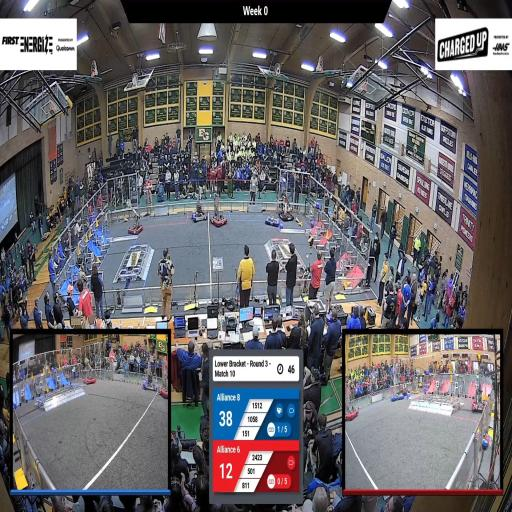robot: (296, 263, 318, 297), (209, 194, 229, 229), (126, 202, 144, 236), (278, 192, 295, 223), (190, 195, 207, 223), (263, 210, 282, 232)
